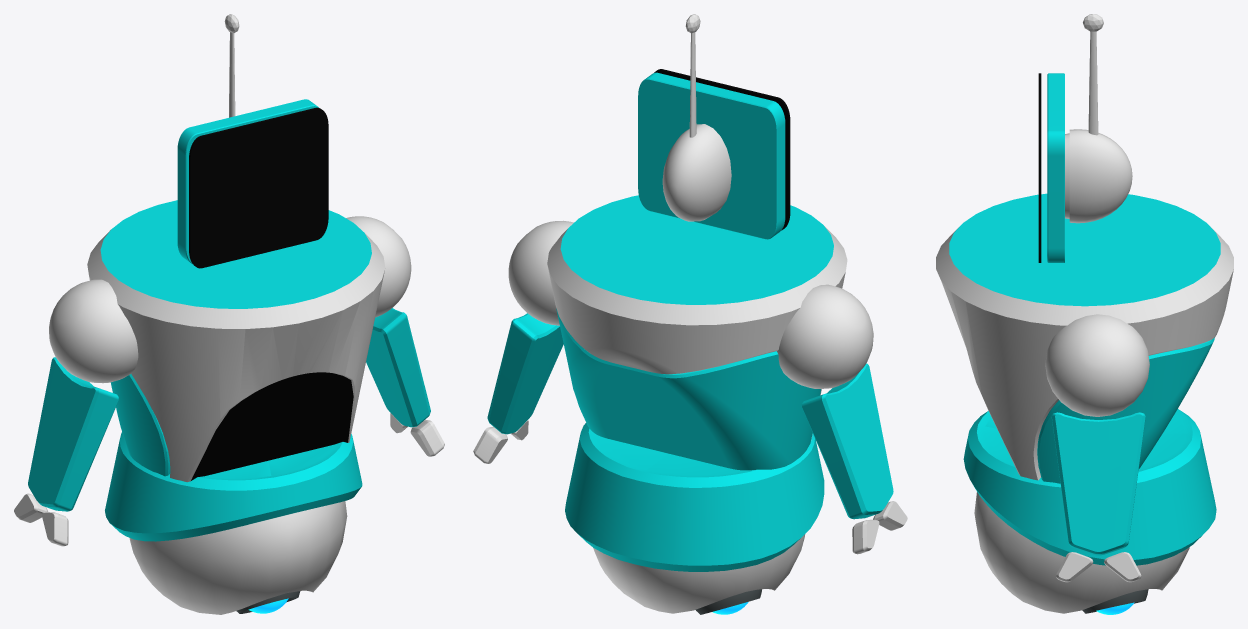
The model's file is baud.glb.
3 renders of one model, left to right at view 1: azimuth 30°, elevation 25°; view 2: azimuth 150°, elevation 25°; view 3: azimuth 270°, elevation 25°, orthographic.
Parts seen in each view (by area): view 1: Body_Screen_geo.002, Face_Case_geo.002, Middle_Section_geo.002, Outer_geo.002, ArmR.001, Shoulder_L.002, ArmL.001, Shoulder_R.002, Finger_R1.002, Finger_L1.002, Thrusters_geo.002, Finger_L2.002; view 2: Body_Screen_geo.002, Middle_Section_geo.002, Face_Case_geo.002, ArmR.001, Shoulder_L.002, Outer_geo.002, ArmL.001, Shoulder_R.002, Thrusters_geo.002, Finger_R2.002, Finger_L2.002, Antenna.002 (+1 smaller); view 3: Body_Screen_geo.002, Middle_Section_geo.002, ArmL.001, Face_Case_geo.002, Outer_geo.002, Shoulder_R.002, Antenna.002, Thrusters_geo.002, Finger_R1.002, Finger_R2.002.
Boxes of the visible parts, left/top/right/bottom form: Body_Screen_geo.002: left=87, top=200, right=385, bottom=482; Face_Case_geo.002: left=177, top=99, right=328, bottom=268; Middle_Section_geo.002: left=105, top=432, right=362, bottom=541; Outer_geo.002: left=129, top=501, right=347, bottom=614; ArmR.001: left=28, top=357, right=118, bottom=511; Shoulder_L.002: left=49, top=279, right=138, bottom=383; ArmL.001: left=366, top=308, right=430, bottom=427; Shoulder_R.002: left=346, top=216, right=411, bottom=317; Finger_R1.002: left=410, top=419, right=444, bottom=456; Finger_L1.002: left=42, top=512, right=68, bottom=546; Thrusters_geo.002: left=236, top=591, right=300, bottom=613; Finger_L2.002: left=14, top=493, right=48, bottom=522; Body_Screen_geo.002: left=547, top=195, right=847, bottom=470; Middle_Section_geo.002: left=565, top=423, right=824, bottom=571; Face_Case_geo.002: left=638, top=69, right=790, bottom=239; ArmR.001: left=801, top=363, right=893, bottom=519; Shoulder_L.002: left=777, top=284, right=873, bottom=388; Outer_geo.002: left=593, top=534, right=805, bottom=613; ArmL.001: left=487, top=313, right=563, bottom=434; Shoulder_R.002: left=508, top=220, right=573, bottom=325; Thrusters_geo.002: left=695, top=589, right=761, bottom=614; Finger_R2.002: left=473, top=426, right=507, bottom=463; Finger_L2.002: left=852, top=519, right=879, bottom=554; Antenna.002: left=689, top=32, right=696, bottom=137; Body_Screen_geo.002: left=936, top=193, right=1233, bottom=483; Middle_Section_geo.002: left=963, top=409, right=1216, bottom=565; ArmL.001: left=1051, top=412, right=1145, bottom=555; Face_Case_geo.002: left=1038, top=73, right=1132, bottom=262; Outer_geo.002: left=974, top=492, right=1189, bottom=613; Shoulder_R.002: left=1045, top=314, right=1149, bottom=416; Antenna.002: left=1088, top=31, right=1098, bottom=135; Thrusters_geo.002: left=1082, top=589, right=1148, bottom=614; Finger_R1.002: left=1056, top=552, right=1093, bottom=582; Finger_R2.002: left=1104, top=552, right=1141, bottom=582.
Size of the model in its own units: 0.9071 by 1.28 by 0.5932.
Materials: 5 (1 with a texture image).
